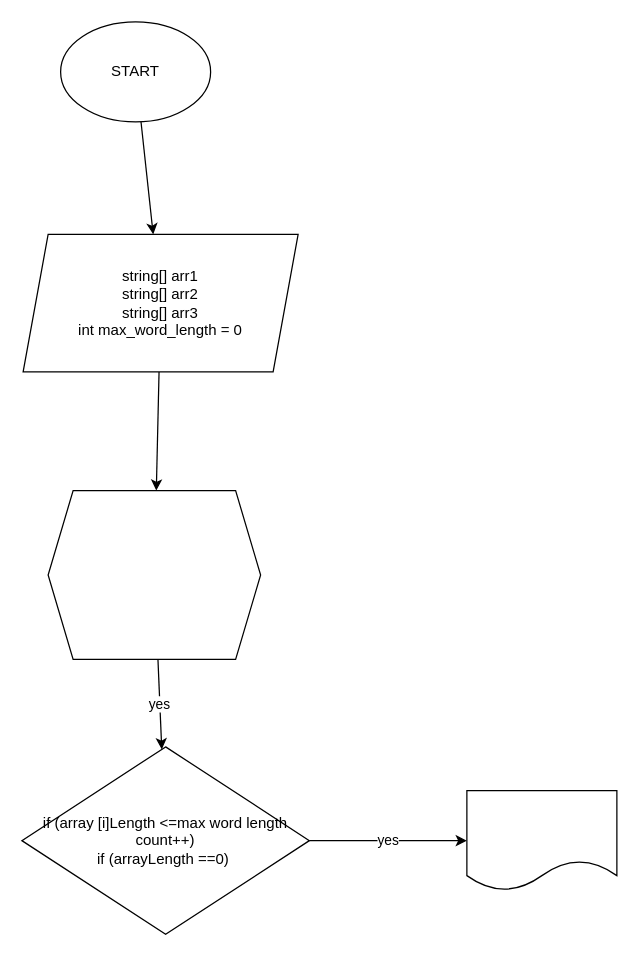
The diagram is 639 pixels wide and 956 high, and some of its shapes have lost their labels. The centre of each missing label's shape, as x and y in pixels:
"for (int i = 0, i < length, i++)" belongs at (154,574).
"print array" belongs at (541,840).
